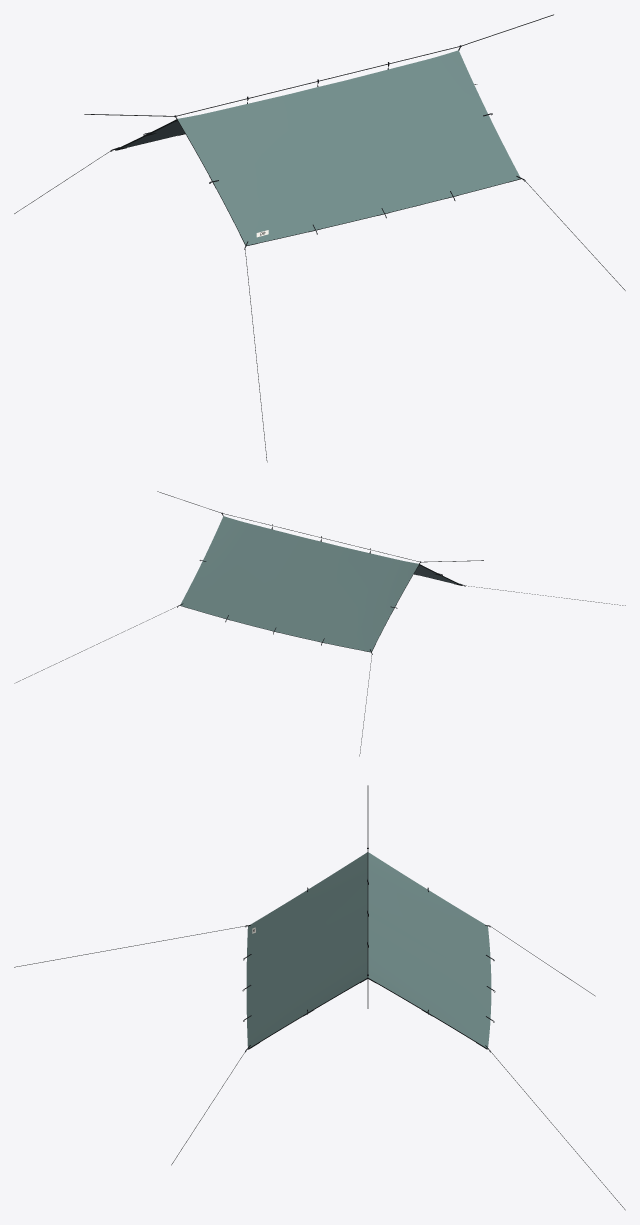
Rendered from dd-tarp-3x3.glb.
3 views of the same model, one above another, from view 1: azimuth 30°, elevation 25°; view 2: azimuth 150°, elevation 25°; view 3: azimuth 270°, elevation 25° (orthographic). The views are drawn at different scales.
Parts seen in each view (by area): view 1: dd-tarp-3x3-fabric, dd-tarp-3x3-cord, dd-tarp-3x3-hem; view 2: dd-tarp-3x3-fabric, dd-tarp-3x3-hem; view 3: dd-tarp-3x3-fabric, dd-tarp-3x3-guy.
Part boxes in pixels (<box>): dd-tarp-3x3-fabric: <box>121,50,520,245</box>; dd-tarp-3x3-cord: <box>84,14,553,116</box>; dd-tarp-3x3-hem: <box>115,119,520,245</box>; dd-tarp-3x3-fabric: <box>180,516,458,651</box>; dd-tarp-3x3-hem: <box>180,564,462,652</box>; dd-tarp-3x3-fabric: <box>246,852,491,1048</box>; dd-tarp-3x3-guy: <box>14,926,625,1210</box>.
Bounding box in the file's own units: 5.81 × 2.08 × 6.18.
